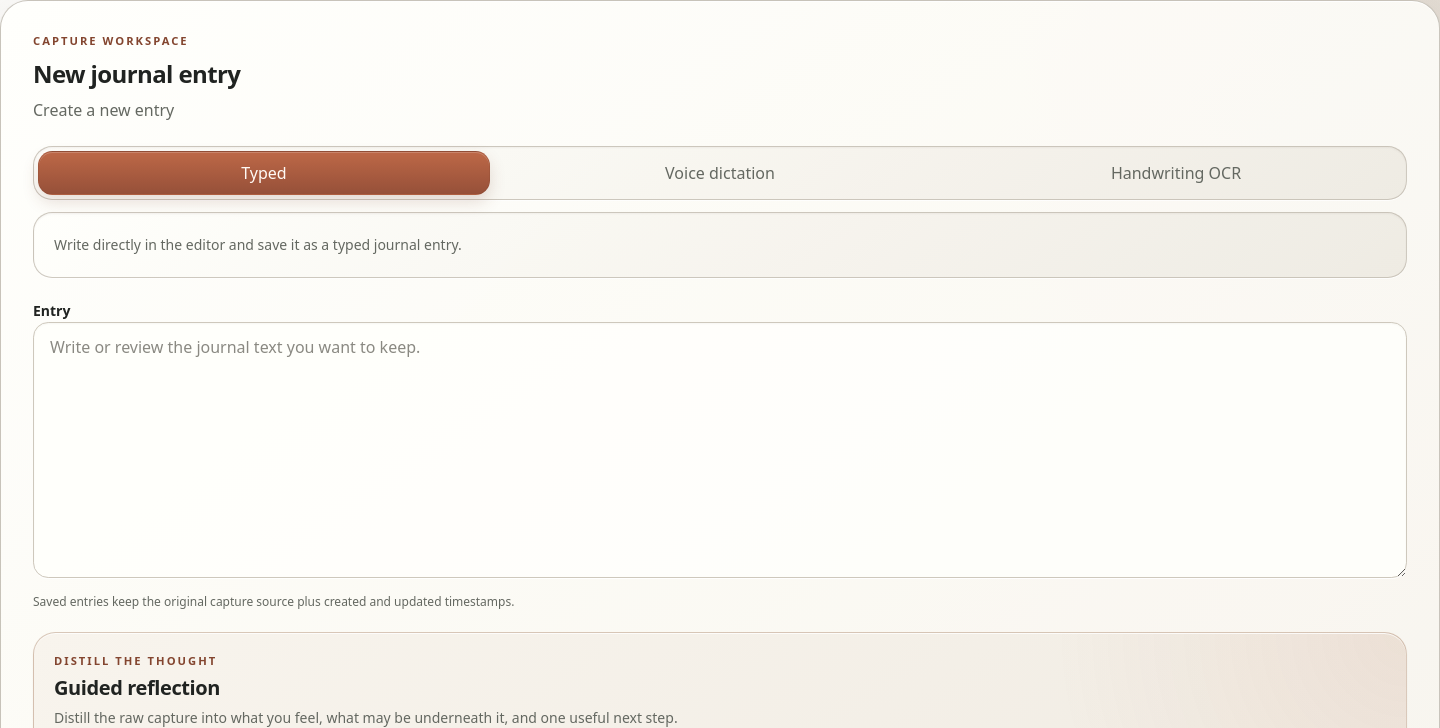
Scenario: JournalCaptureForm › falls back to typed source when dictation is unavailable
This screenshot has width=1440, height=728.
Click the button "Voice dictation".
click(720, 173)  # box [494, 151, 946, 195]
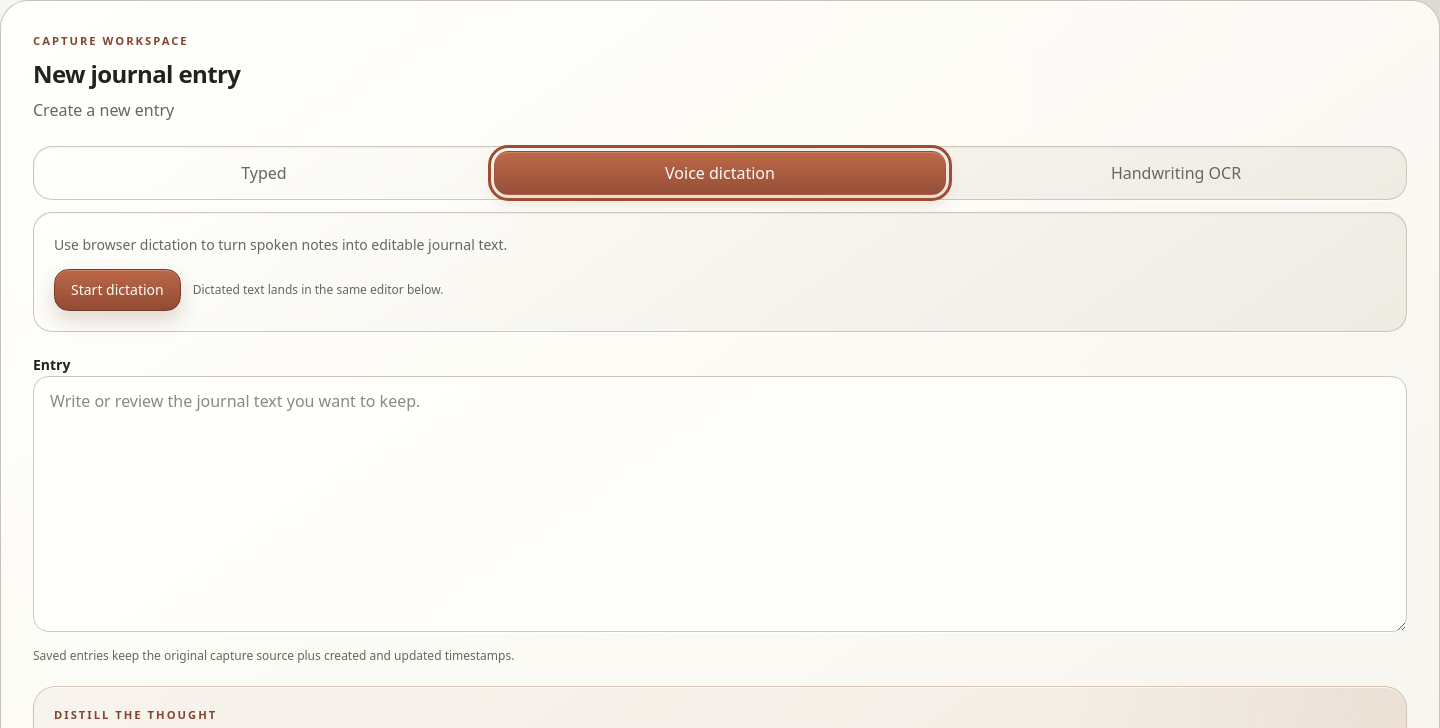
Click the button "Start dictation".
click(117, 290)  # box [54, 269, 181, 311]
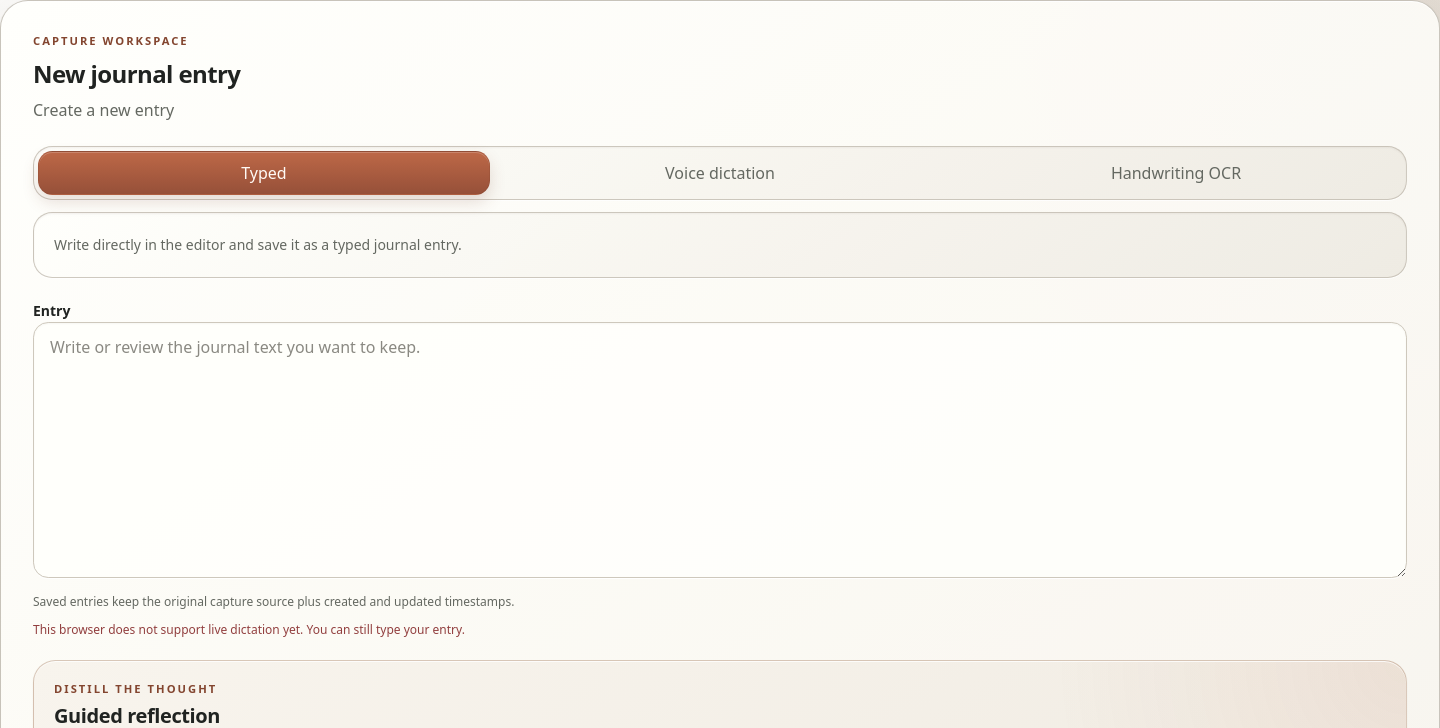
Expected: the element named "source" holds "typed", [33, 298, 1407, 640]
Expected: the text "This browser does not support live dictation yet. You can still type your entry." is shown, [33, 621, 465, 638]
